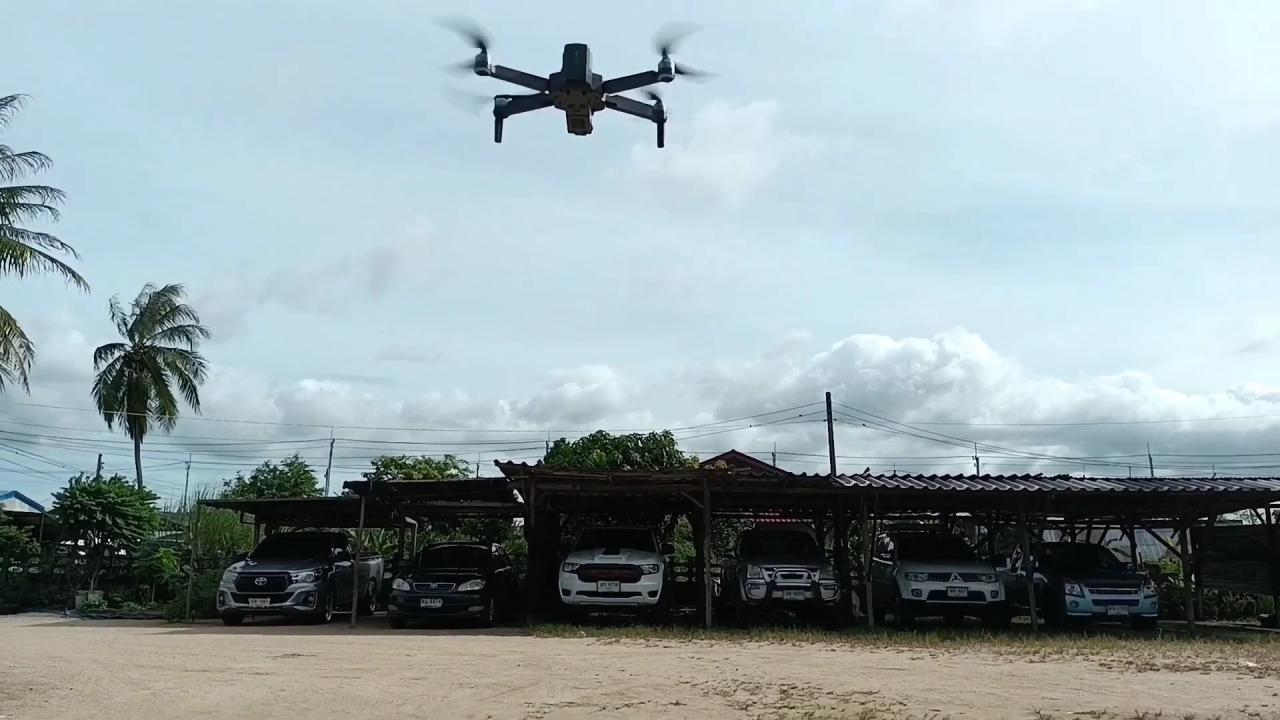Drone: (419, 7, 730, 164)
